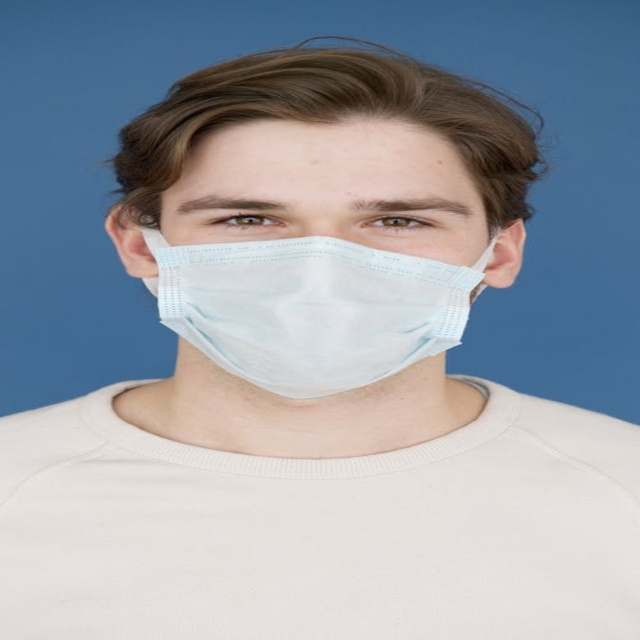Mascara: (139, 223, 497, 397)
Sin_gafas: (208, 213, 285, 228), (362, 215, 436, 230)
